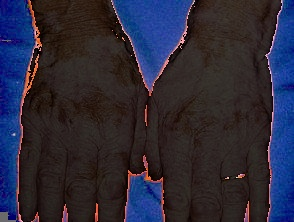vitiligo: (144, 0, 283, 222), (16, 0, 149, 222)
